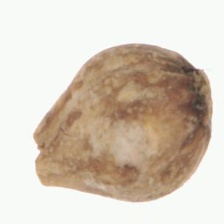L1: (178, 53, 214, 132), (32, 127, 51, 188)
L2: (32, 41, 212, 203)
